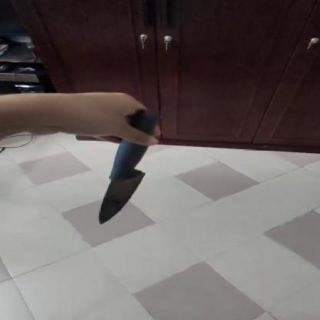knife: (84, 150, 154, 234)
